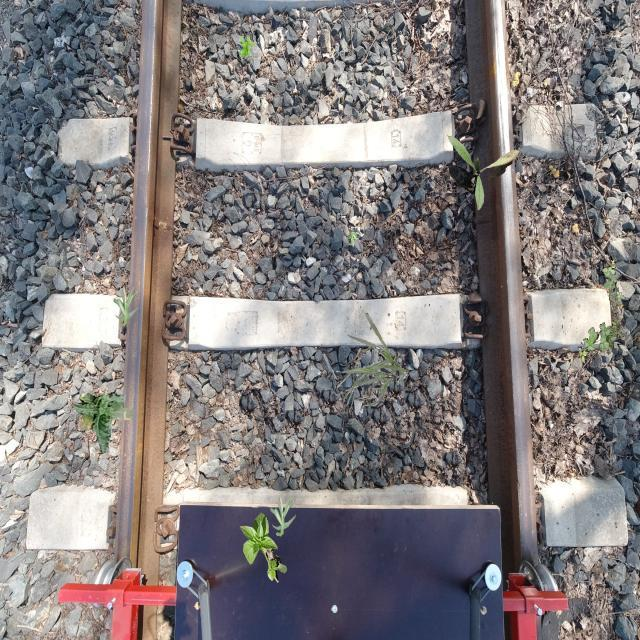Plant: (337, 313, 410, 406), (448, 136, 520, 210), (578, 259, 626, 362), (73, 392, 136, 454), (240, 512, 288, 583), (113, 285, 140, 327), (270, 495, 296, 537), (239, 35, 256, 59), (348, 232, 362, 248)
